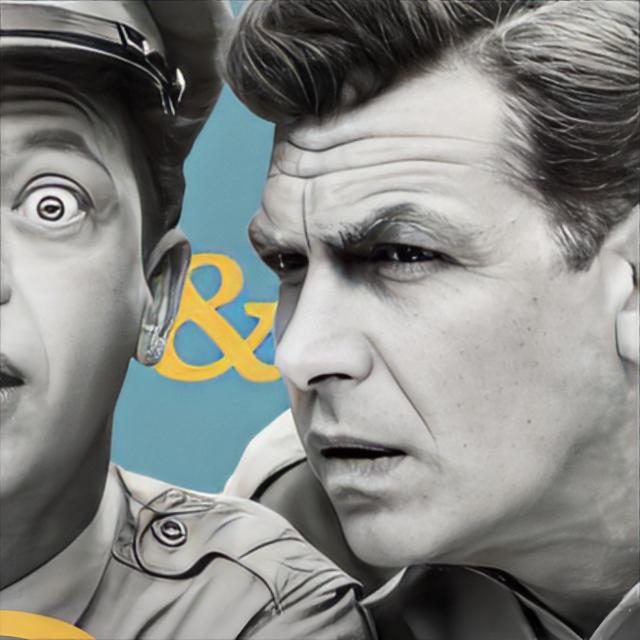anger: (245, 66, 596, 572)
surprise: (0, 54, 153, 517)
